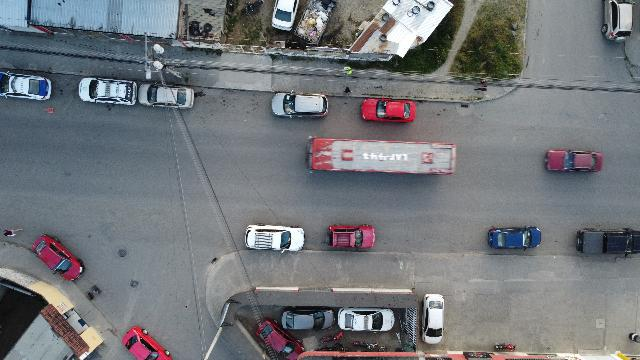Vehiculo: (32, 235, 84, 281), (256, 318, 304, 360), (245, 224, 305, 252), (122, 326, 172, 359), (79, 77, 137, 105), (576, 229, 640, 254), (1, 70, 52, 100), (138, 83, 194, 109), (272, 93, 328, 118), (360, 98, 416, 122), (338, 308, 394, 332), (602, 0, 634, 42), (326, 224, 376, 250), (545, 150, 603, 172), (488, 226, 540, 250), (421, 294, 445, 344), (282, 310, 334, 330), (271, 1, 299, 31)
